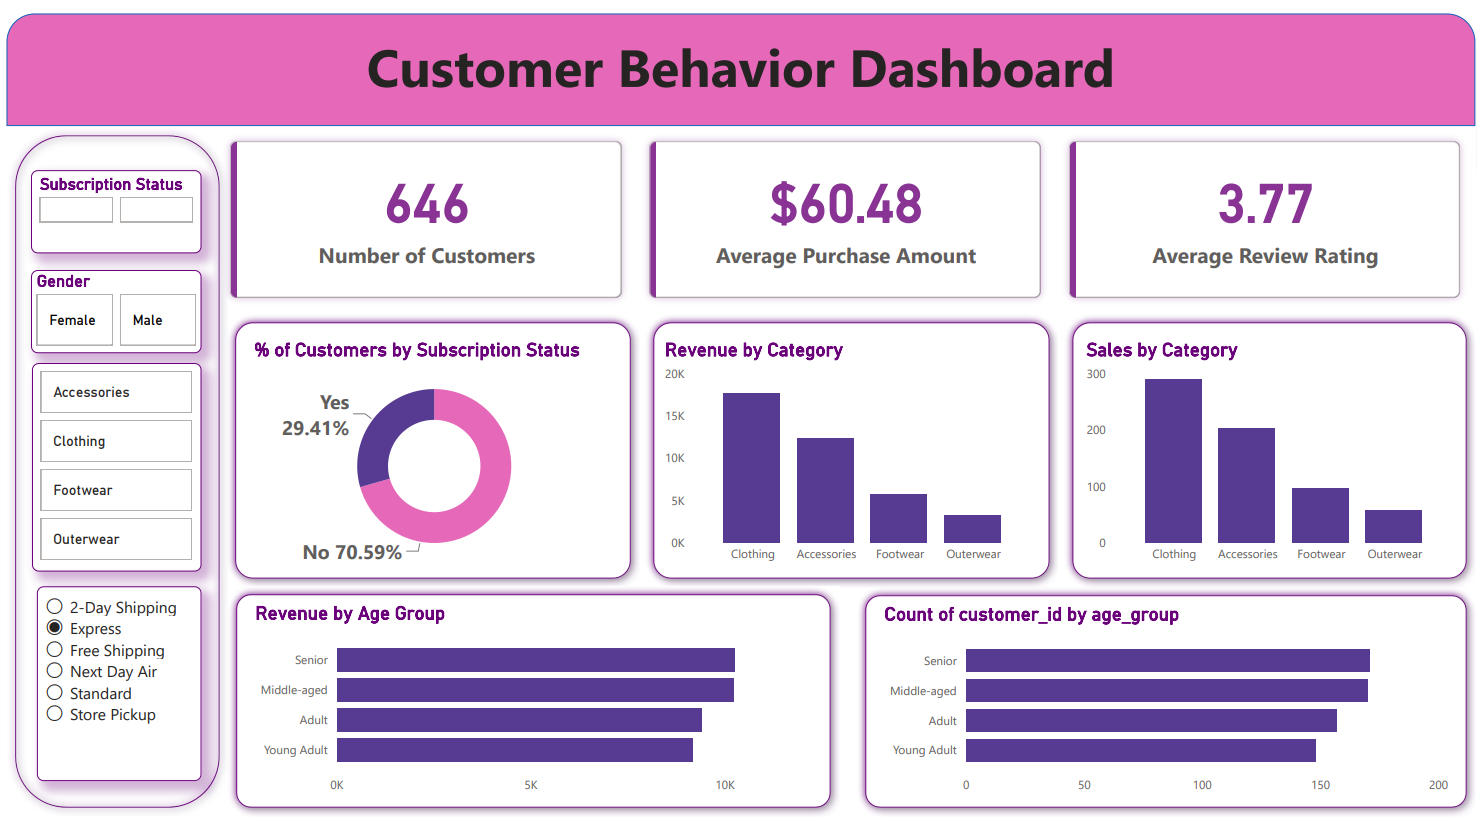

What the dashboard file says about the page in this screenshot:
{"tool":"powerbi","page":{"name":"Page 1","canvas":[1500,820],"ordinal":0},"visuals":[{"type":"cardVisual","fields":{"Data":["public customer.Number of Customers","public customer.Average Purchase Amount","public customer.Average Review Rating"]},"box":[212.9,115.3,1286.5,191.6],"z":2000},{"type":"shape","box":[225.6,584.9,623.9,235.4],"z":2500,"group":"g1"},{"type":"shape","box":[0,0,1499.4,115.3],"z":3000},{"type":"textbox","box":[0,12.4,1499.4,102.9],"z":4000},{"type":"shape","box":[225.4,307,420.5,278.6],"z":5000},{"type":"donutChart","title":"% of Customers by Subscription Status","fields":{"Category":["public customer.subscription_status"],"Y":["CountNonNull(public customer.customer_id)"]},"box":[248.4,331.8,376.2,237.8],"z":6000},{"type":"shape","box":[1078.9,307,420.5,278.6],"z":7000},{"type":"shape","box":[652.1,307,420.5,278.6],"z":8000},{"type":"clusteredColumnChart","title":"Revenue by Category","fields":{"Y":["Sum(public customer.purchase_amount)"],"Category":["public customer.category"]},"box":[667.2,331.8,385.1,237.8],"z":9000},{"type":"clusteredColumnChart","title":"Sales by Category","fields":{"Y":["CountNonNull(public customer.customer_id)"],"Category":["public customer.category"]},"box":[1096.6,331.8,385.1,237.8],"z":10000},{"type":"shape","box":[0,115.6,225.6,704.7],"z":11000},{"type":"advancedSlicerVisual","fields":{"Values":["public customer.subscription_status"]},"box":[25.1,160.2,174.1,85],"z":12000},{"type":"advancedSlicerVisual","fields":{"Values":["public customer.gender"]},"box":[25.1,261.8,174.1,85],"z":13000},{"type":"advancedSlicerVisual","fields":{"Values":["public customer.category"]},"box":[26.5,356.5,172.7,213.1],"z":14000},{"type":"listSlicer","fields":{"Values":["public customer.shipping_type"]},"box":[30.6,584.9,168.5,199.2],"z":15000},{"type":"shape","box":[867.7,585.6,631.7,234.2],"z":16000},{"type":"clusteredBarChart","fields":{"Y":["CountNonNull(public customer.customer_id)"],"Category":["public customer.age_group"]},"box":[890.8,601.5,585.6,204.1],"z":17000},{"type":"clusteredBarChart","title":"Revenue by Age Group","fields":{"Y":["Sum(public customer.purchase_amount)"],"Category":["public customer.age_group"]},"box":[248.4,600.9,578.3,205],"z":17500,"group":"g1"},{"type":"group","id":"g1","title":"Group 1","box":[225.6,584.9,623.9,235.4],"z":17501}]}

Visuals, with their boxes in screenshot pixels (x1, y1, x2, y2), scaled from the page's 1500x820 canvas onto the 1481x821 screenshot:
cardVisual - public customer.Number of Customers x public customer.Average Purchase Amount: locate(210, 115, 1480, 307)
shape: locate(223, 586, 839, 820)
shape: locate(0, 0, 1480, 115)
textbox: locate(0, 12, 1480, 115)
shape: locate(223, 307, 638, 586)
"% of Customers by Subscription Status" donutChart: locate(245, 332, 617, 570)
shape: locate(1065, 307, 1480, 586)
shape: locate(644, 307, 1059, 586)
"Revenue by Category" clusteredColumnChart: locate(659, 332, 1039, 570)
"Sales by Category" clusteredColumnChart: locate(1083, 332, 1463, 570)
shape: locate(0, 116, 223, 820)
advancedSlicerVisual - public customer.subscription_status: locate(25, 160, 197, 245)
advancedSlicerVisual - public customer.gender: locate(25, 262, 197, 347)
advancedSlicerVisual - public customer.category: locate(26, 357, 197, 570)
listSlicer - public customer.shipping_type: locate(30, 586, 197, 785)
shape: locate(857, 586, 1480, 820)
clusteredBarChart - CountNonNull(public customer.customer_id) x public customer.age_group: locate(880, 602, 1458, 807)
"Revenue by Age Group" clusteredBarChart: locate(245, 602, 816, 807)
"Group 1" group: locate(223, 586, 839, 820)
